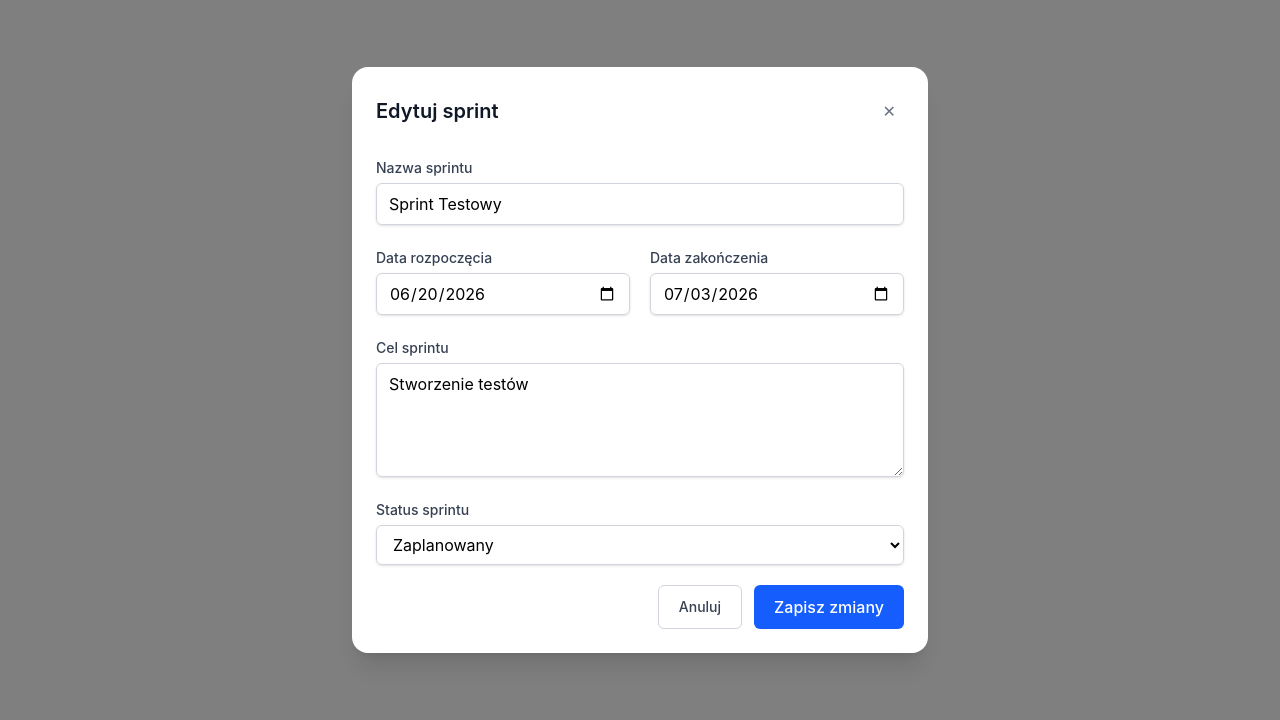
Test: EditProjectSprintModal › powinien wyświetlić komunikat 'Nie masz uprawnień do edycji tego sprintu.' dla błędu API o statusie 403
The image size is (1280, 720).
Type "x" into the field named "name". click: (640, 204)
box: [376, 183, 904, 225]
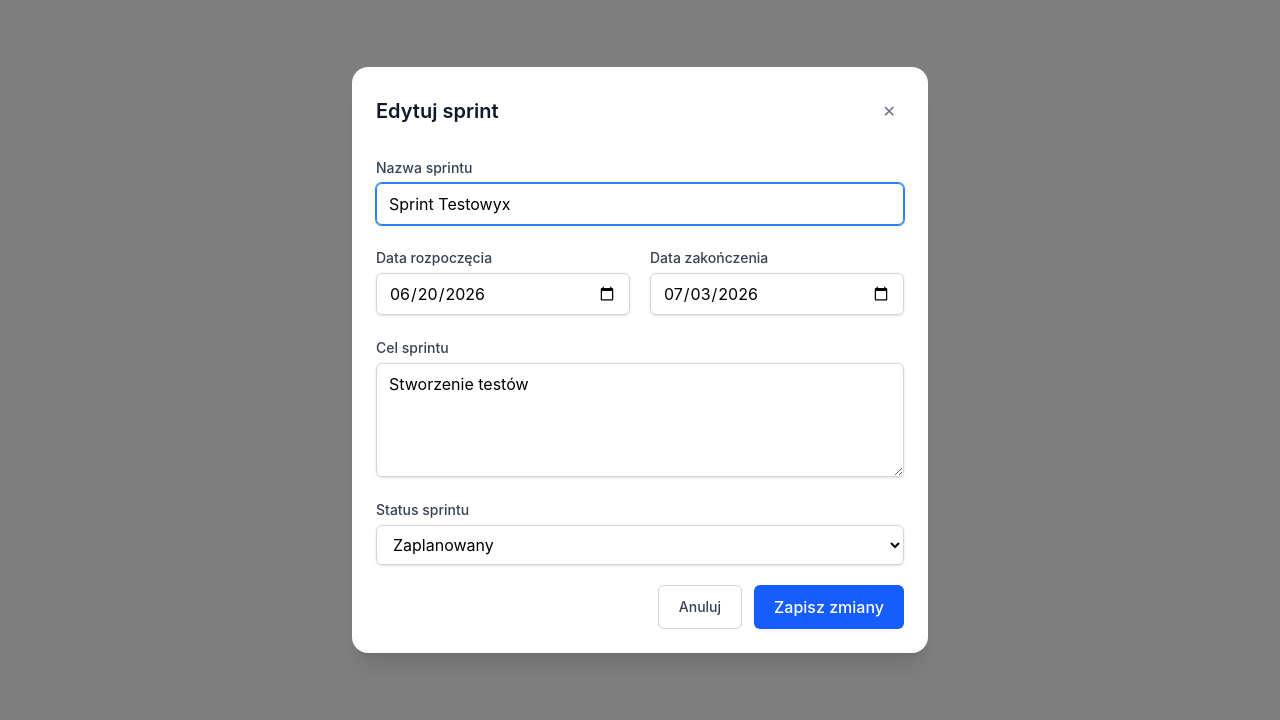
Click the button "Zapisz zmiany". click: click(829, 607)
box: [754, 585, 904, 629]
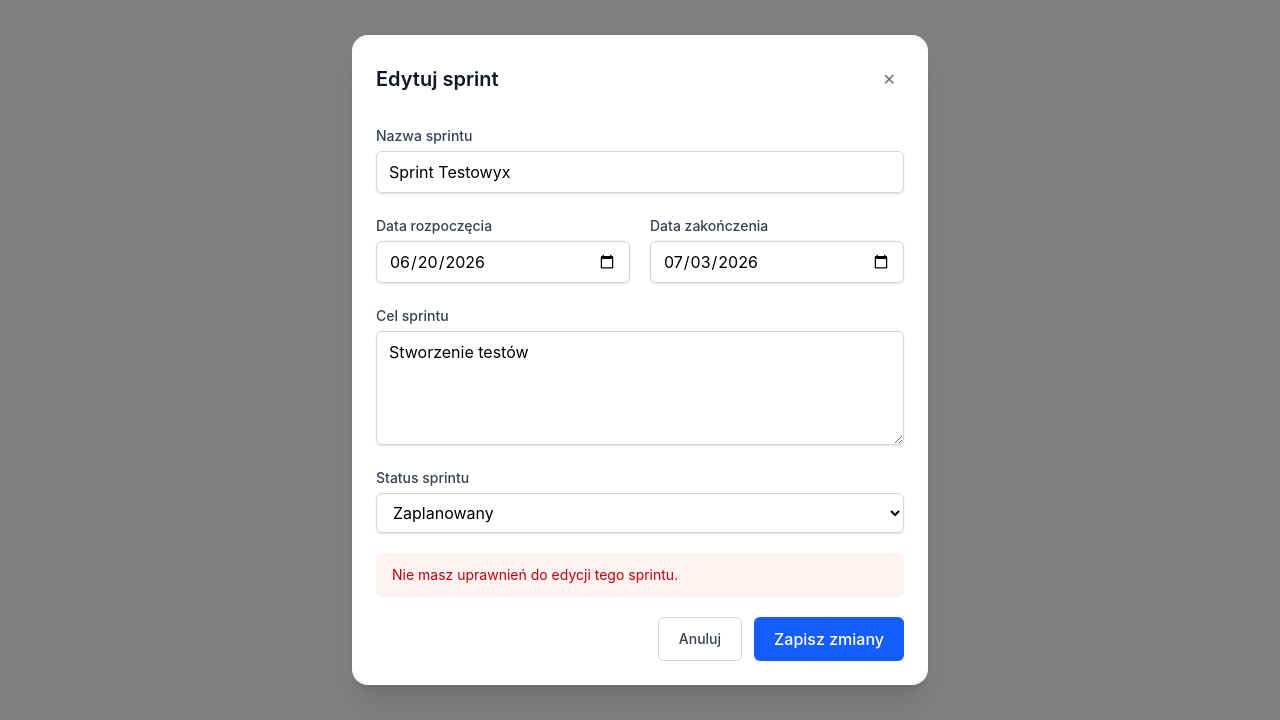
Expected: the text "Nie masz uprawnień do edycji tego sprintu." is shown, [376, 553, 904, 597]
